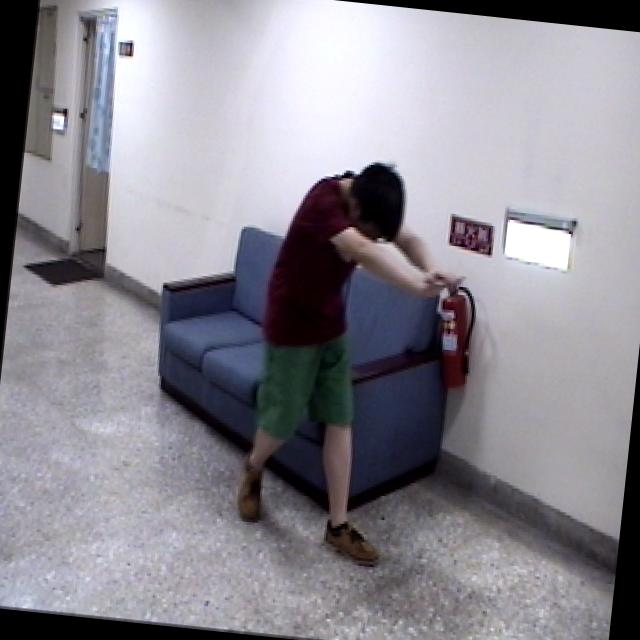bend: (218, 137, 480, 577)
